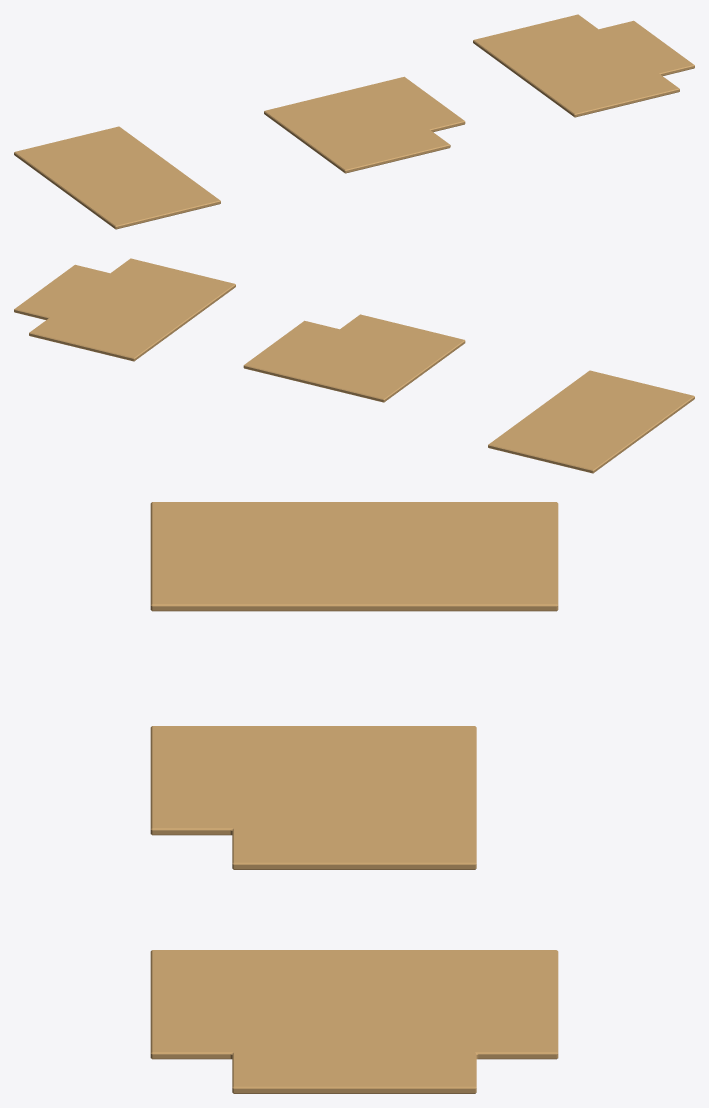
Rendered from jalan_setapak_v001.glb.
3 views of the same model, one above another, from view 1: azimuth 30°, elevation 25°; view 2: azimuth 150°, elevation 25°; view 3: azimuth 270°, elevation 25° (orthographic). The views are drawn at different scales.
Parts seen in each view (by area): view 1: jalan_pertigaan, jalan_belok, jalan_lurus; view 2: jalan_pertigaan, jalan_belok, jalan_lurus; view 3: jalan_pertigaan, jalan_lurus, jalan_belok.
Part boxes in pixels (x1=…): jalan_pertigaan: x1=473, y1=14, x2=694, y2=117; jalan_belok: x1=264, y1=76, x2=465, y2=173; jalan_lurus: x1=14, y1=126, x2=220, y2=229; jalan_pertigaan: x1=14, y1=258, x2=235, y2=361; jalan_belok: x1=243, y1=314, x2=465, y2=402; jalan_lurus: x1=488, y1=370, x2=694, y2=473; jalan_pertigaan: x1=150, y1=950, x2=558, y2=1093; jalan_lurus: x1=150, y1=502, x2=558, y2=611; jalan_belok: x1=150, y1=726, x2=476, y2=869.
Bounding box in the file's own units: 6.8 × 0.04 × 2.
